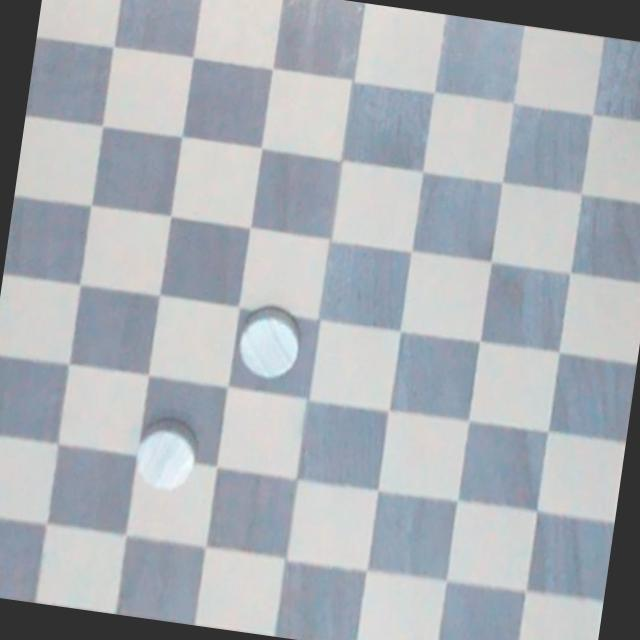BOARD: (0, 0, 640, 640)
white: (126, 404, 212, 509), (233, 298, 307, 386)
